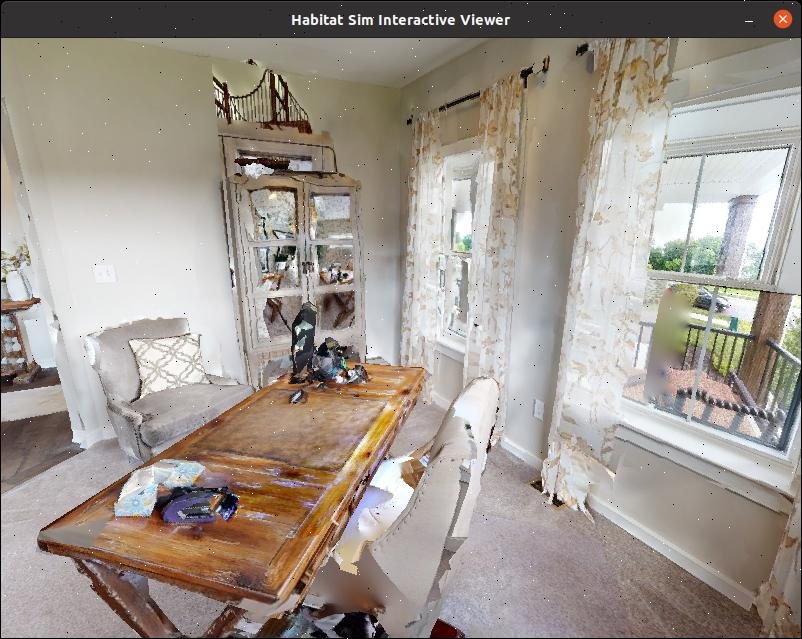chair: (237, 369, 539, 639)
sofa: (75, 309, 250, 474)
table: (15, 333, 442, 639)
